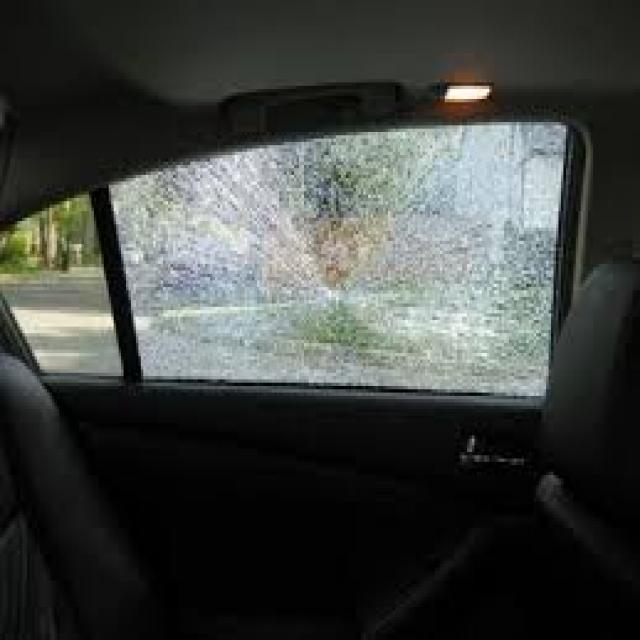damaged-window: (100, 115, 566, 402)
